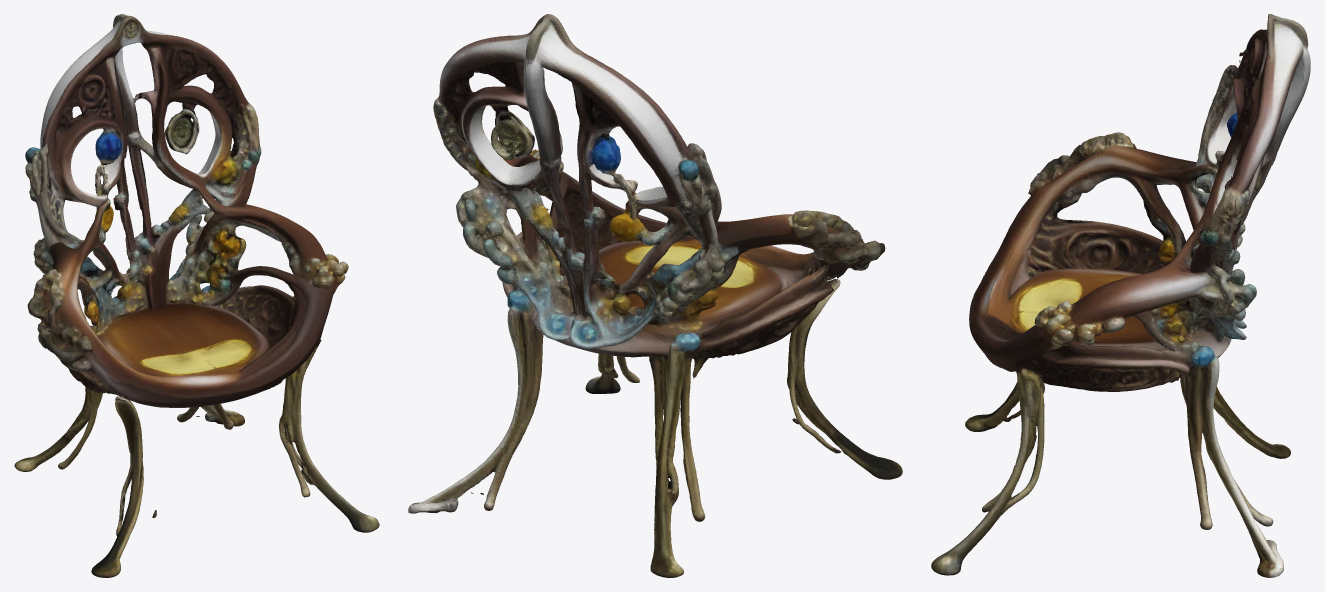
3 views of the same model, side by side, from view 1: azimuth 30°, elevation 25°; view 2: azimuth 150°, elevation 25°; view 3: azimuth 270°, elevation 25° (orthographic). The views are drawn at different scales.
Parts seen in each view (by area): view 1: 0; view 2: 0; view 3: 0.
Part boxes in pixels (box(x1,y1,x2,y2)): 0: box(14, 14, 379, 577); 0: box(408, 14, 902, 577); 0: box(931, 14, 1310, 577).
Bounding box in the file's own units: 0.6823 × 0.912 × 0.6277.
1 material, 1 textured.
